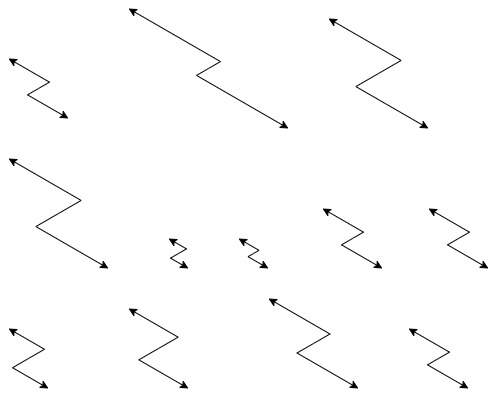bi_isonomic: (126, 6, 290, 133), (6, 154, 109, 273), (326, 15, 429, 131), (265, 295, 360, 390), (126, 305, 190, 392), (321, 205, 384, 275), (406, 325, 470, 393), (7, 55, 71, 122), (427, 208, 490, 272), (7, 326, 50, 390), (237, 236, 272, 272), (168, 235, 189, 272)
